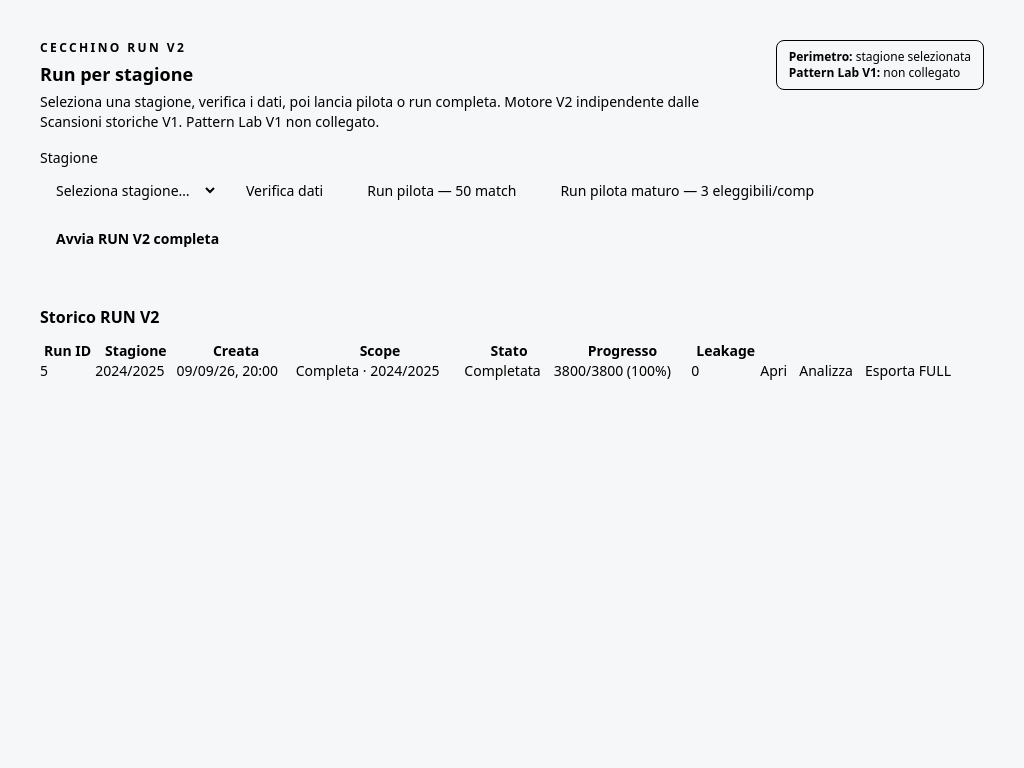
Test: CecchinoRunV2Section › stale_active_run mostra il banner con Riprendi e Annulla invece di un errore secco
This screenshot has width=1024, height=768.
Expected: the row with test id "run-v2-row-5" is shown, [40, 361, 984, 381]
Select "2024/2025" in the dropdown with test id "run-v2-season-select": (129, 190) [40, 172, 218, 209]
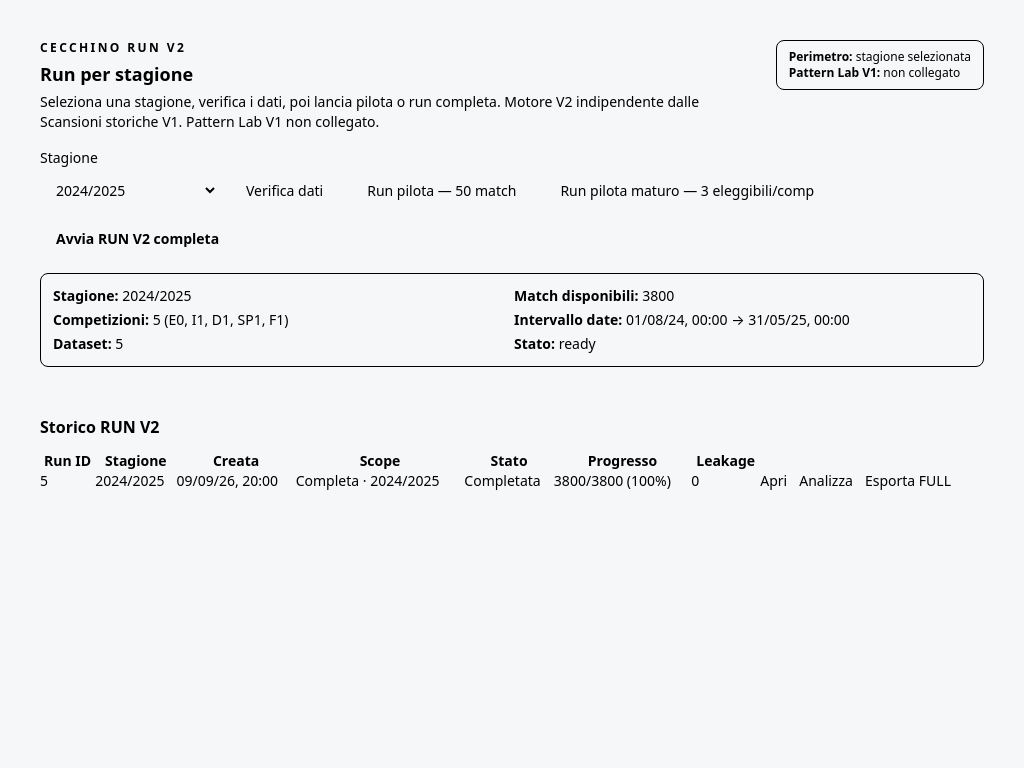
Now the element with test id "run-v2-preflight-panel" is shown, box [40, 273, 984, 367]
Click the button with test id "run-v2-start-full": click(138, 239) [40, 221, 235, 257]
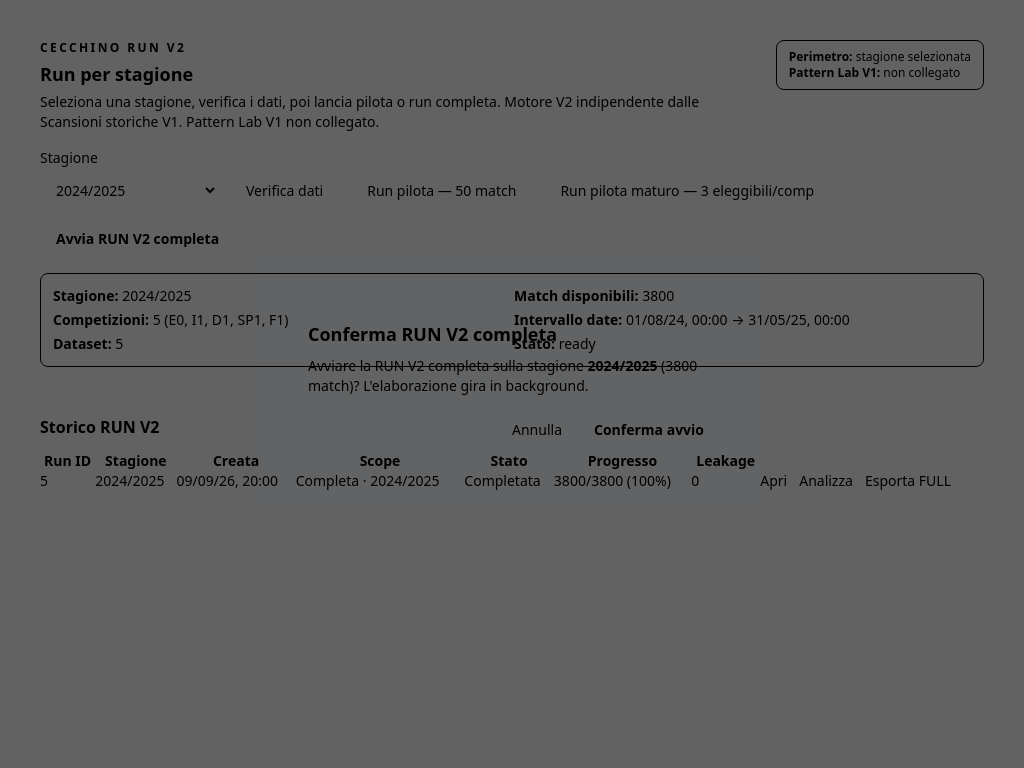
Click the button with test id "run-v2-confirm-start": click(649, 430) [582, 412, 716, 448]
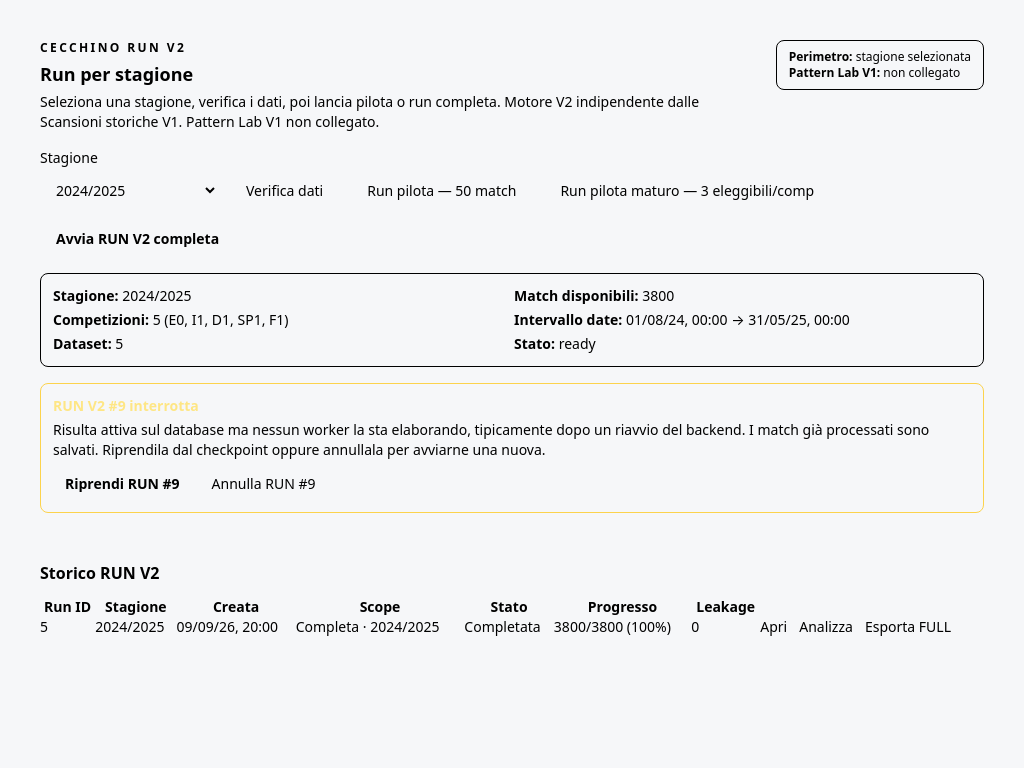
Now the element with test id "run-v2-blocked-banner" is shown, box [40, 383, 984, 513]
Now the button with test id "run-v2-blocked-resume" is shown, box [53, 468, 192, 500]
Now the button with test id "run-v2-blocked-cancel" is shown, box [200, 468, 328, 500]
